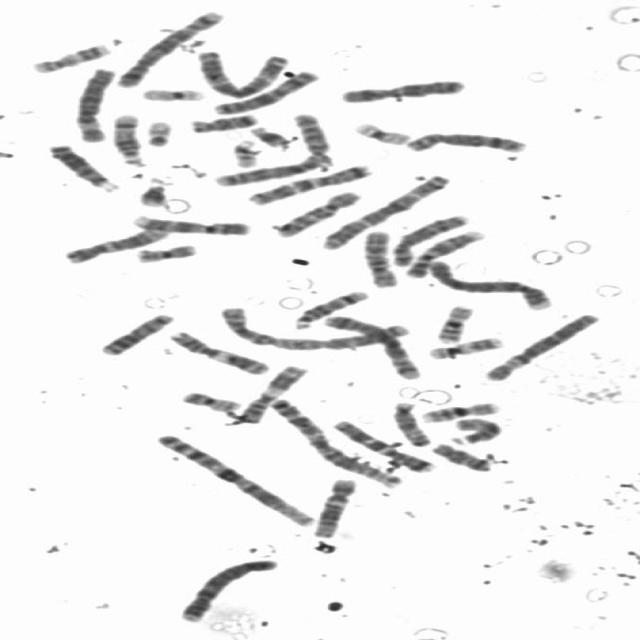A1: (146, 431, 318, 528), (266, 395, 405, 489)
A2: (206, 109, 335, 187), (213, 302, 407, 352)
A3: (316, 172, 454, 250), (190, 46, 291, 100)
B4: (422, 257, 554, 311), (173, 556, 280, 622)
B5: (110, 7, 229, 89), (320, 312, 424, 381)
C10: (268, 188, 364, 240), (357, 226, 401, 289)
C11: (221, 360, 312, 425), (162, 328, 272, 376)
C12: (55, 223, 171, 265), (308, 476, 358, 538)
C6: (479, 310, 602, 383), (68, 64, 120, 144)
C7: (326, 416, 441, 474), (240, 161, 374, 206)
C8: (385, 210, 475, 268), (398, 128, 528, 154)
C9: (397, 225, 491, 279), (128, 211, 252, 237)
D13: (42, 140, 123, 194), (96, 310, 178, 357)
D14: (286, 286, 372, 330), (104, 109, 150, 168)
D15: (384, 397, 435, 447), (446, 415, 506, 446)
E16: (416, 399, 504, 424), (431, 302, 477, 344)
E17: (26, 40, 112, 75), (423, 333, 507, 360)
E18: (424, 439, 495, 473), (186, 111, 262, 133)
F19: (347, 119, 412, 146), (136, 84, 208, 103)
F20: (174, 388, 244, 413), (132, 240, 200, 264)
G21: (246, 123, 294, 151), (133, 175, 171, 207)
G22: (226, 136, 263, 169), (140, 118, 175, 148)
X: (208, 67, 322, 116), (335, 76, 469, 104)
